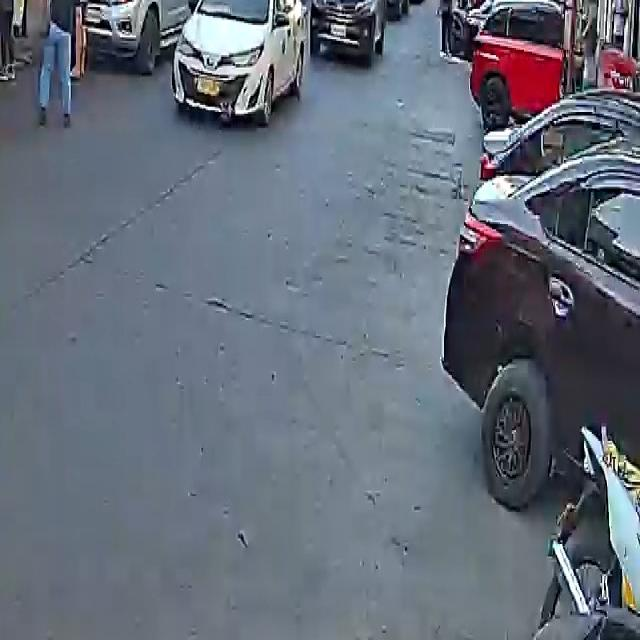car: (443, 84, 640, 616), (169, 0, 309, 123), (466, 0, 573, 126), (74, 0, 207, 73), (308, 0, 386, 64)
